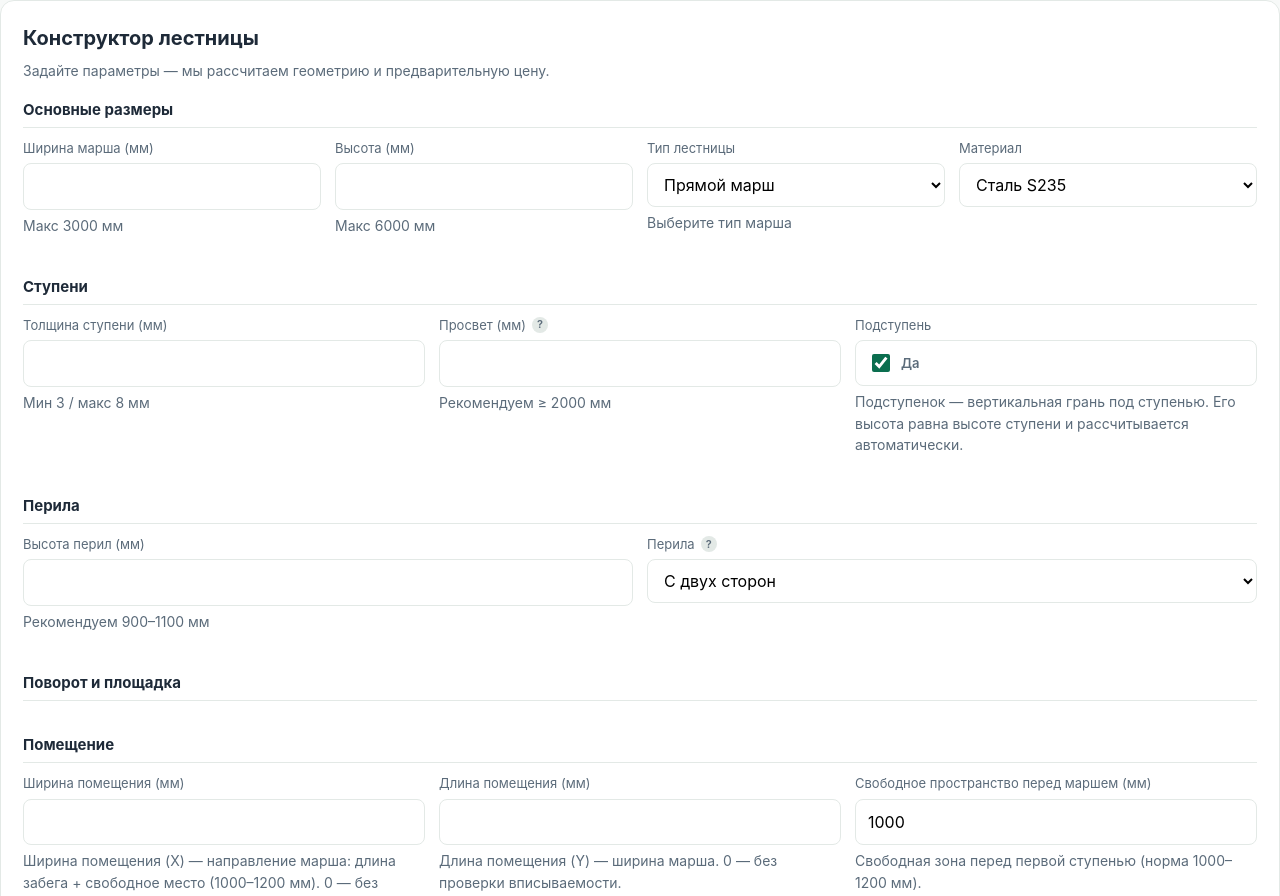
Test: Constructor › подсказки ширины и высоты зависят от материала
Expected: the text "Макс 6000 мм" is shown, [335, 217, 435, 234]
Expected: the text "Макс 3000 мм" is shown, [23, 217, 123, 234]
Step 1. Select "Дуб" in the dropdown labelled "Материал" → (1108, 185), box [959, 163, 1257, 207]
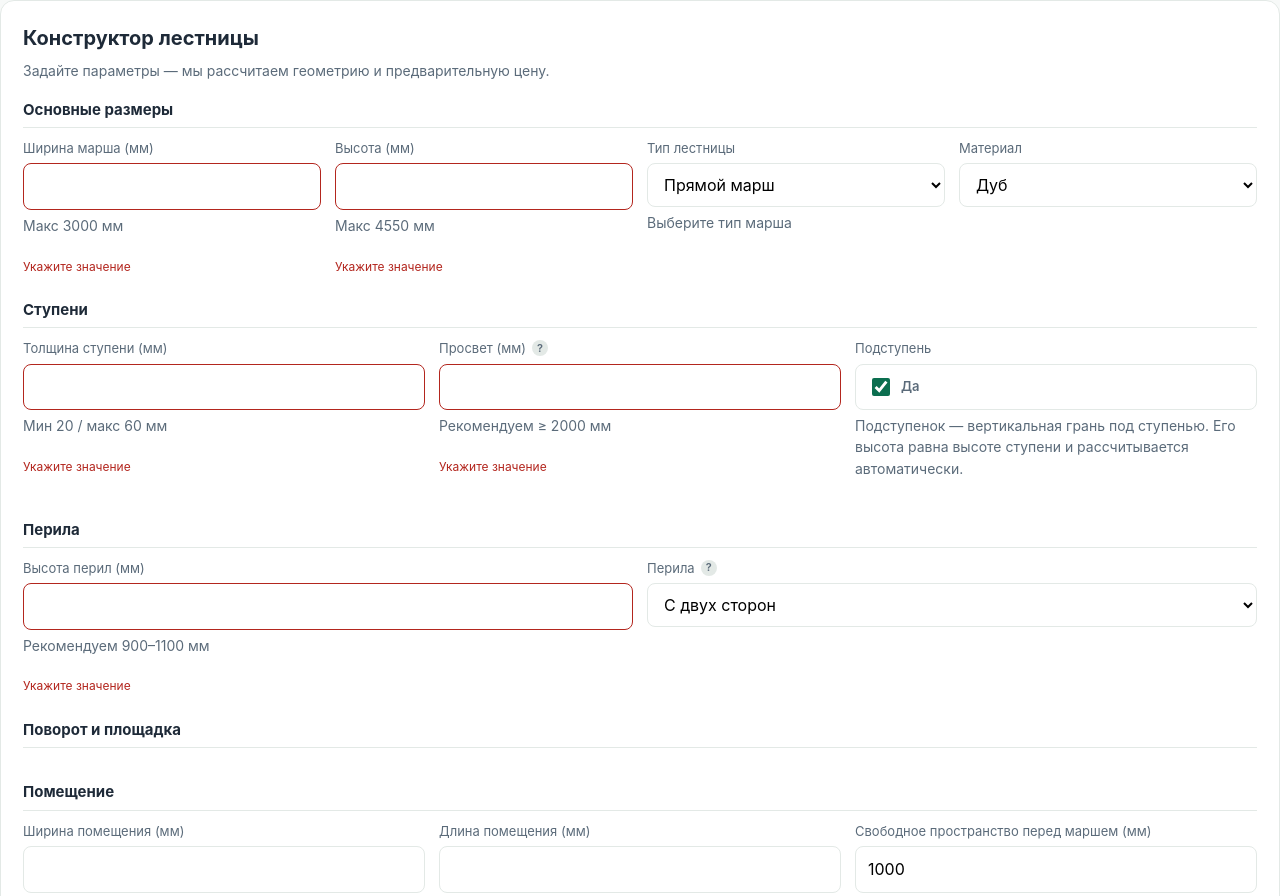
Expected: the text "Макс 4550 мм" is shown, [335, 217, 435, 234]
Expected: the text "Мин 20 / макс 60 мм" is shown, [23, 417, 167, 434]
Step 2. Select "Алюминий 5083" in the dropdown labelled "Материал" → (1108, 185), box [959, 163, 1257, 207]
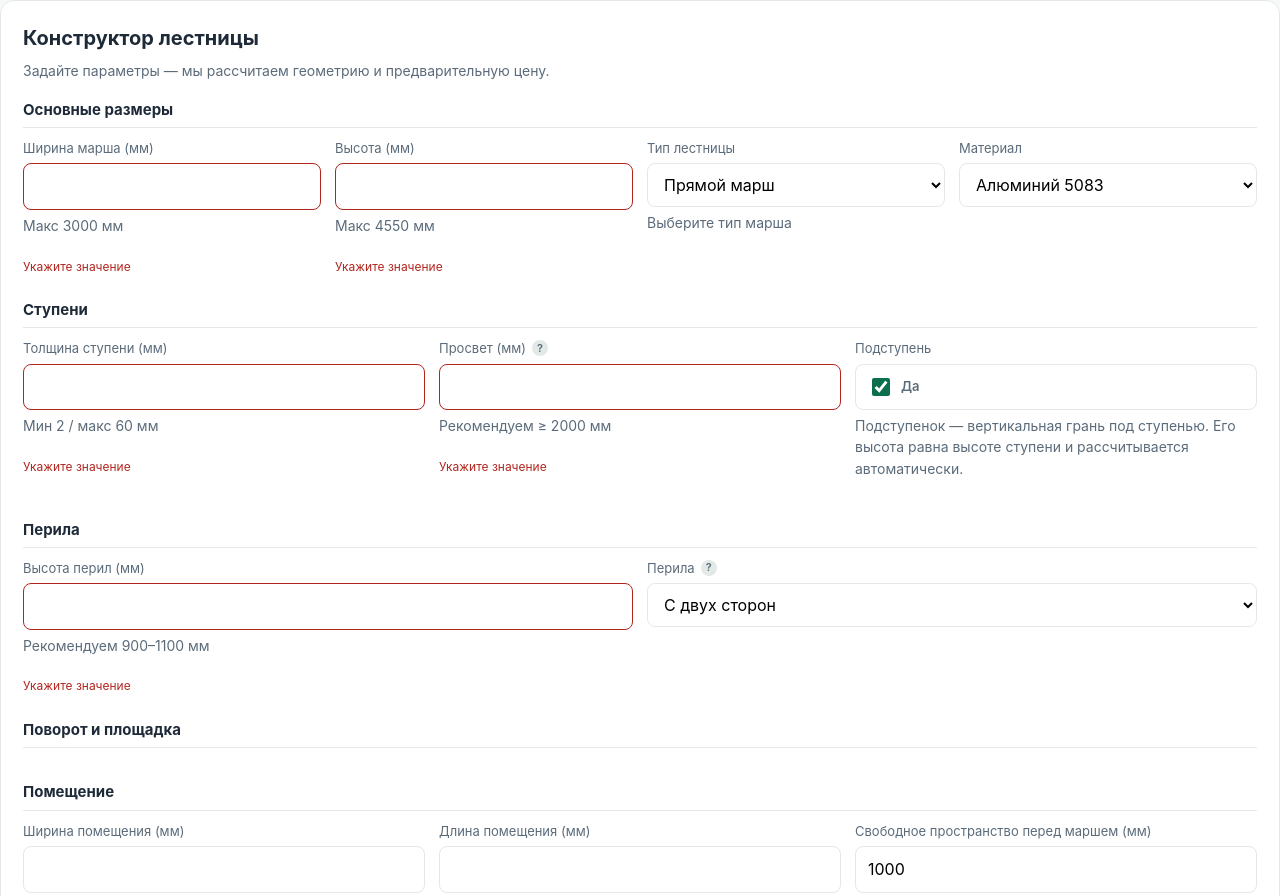
Expected: the text "Мин 2 / макс 60 мм" is shown, [23, 417, 158, 434]
